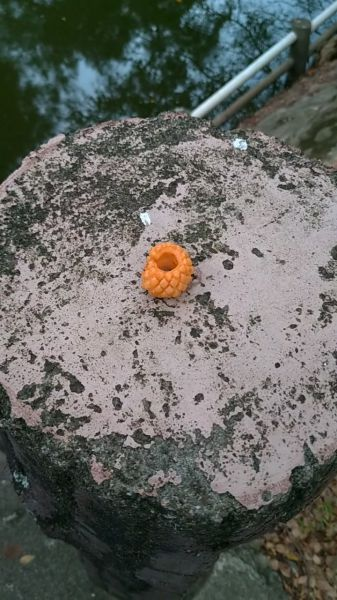eggs: (138, 239, 197, 303)
